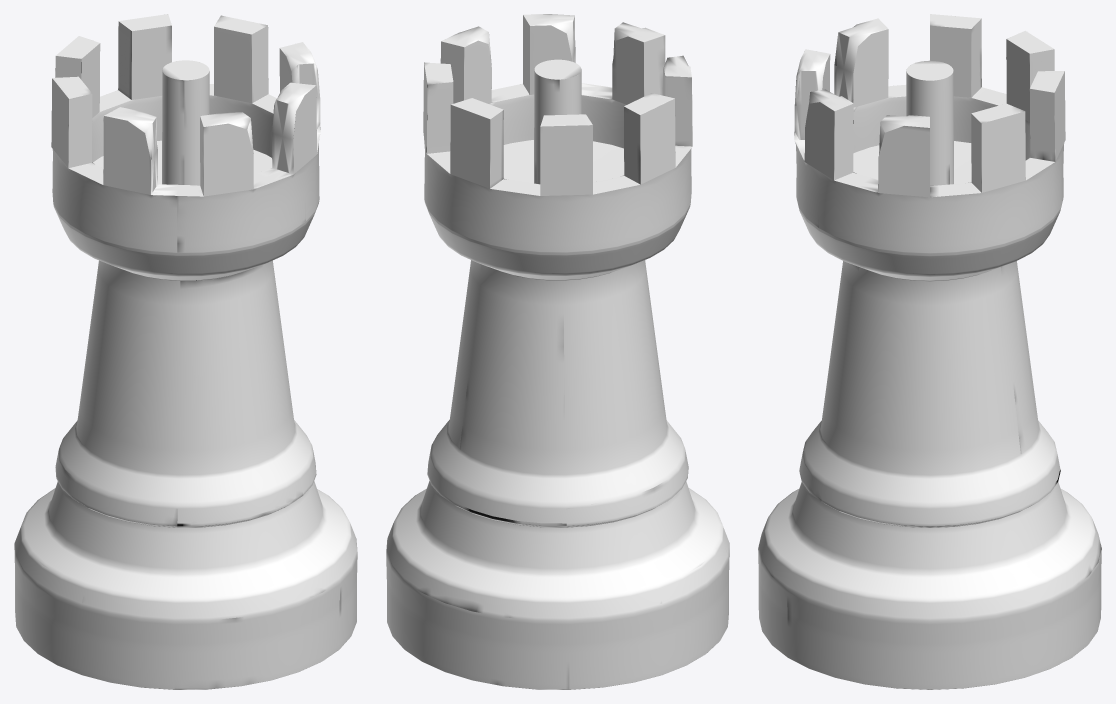
File: Rook_White.fbx
3 renders of one model, left to right at view 1: azimuth 30°, elevation 25°; view 2: azimuth 150°, elevation 25°; view 3: azimuth 270°, elevation 25°, orthographic.
Visible parts, largest first — view 1: pCylinder9.001; view 2: pCylinder9.001; view 3: pCylinder9.001.
Boxes of the visible parts, x1,y1,x2,y2 form: pCylinder9.001: (14, 14, 357, 689); pCylinder9.001: (386, 14, 729, 689); pCylinder9.001: (758, 14, 1101, 689).
Size of the model in its own units: 1.96 by 3.45 by 1.96.
